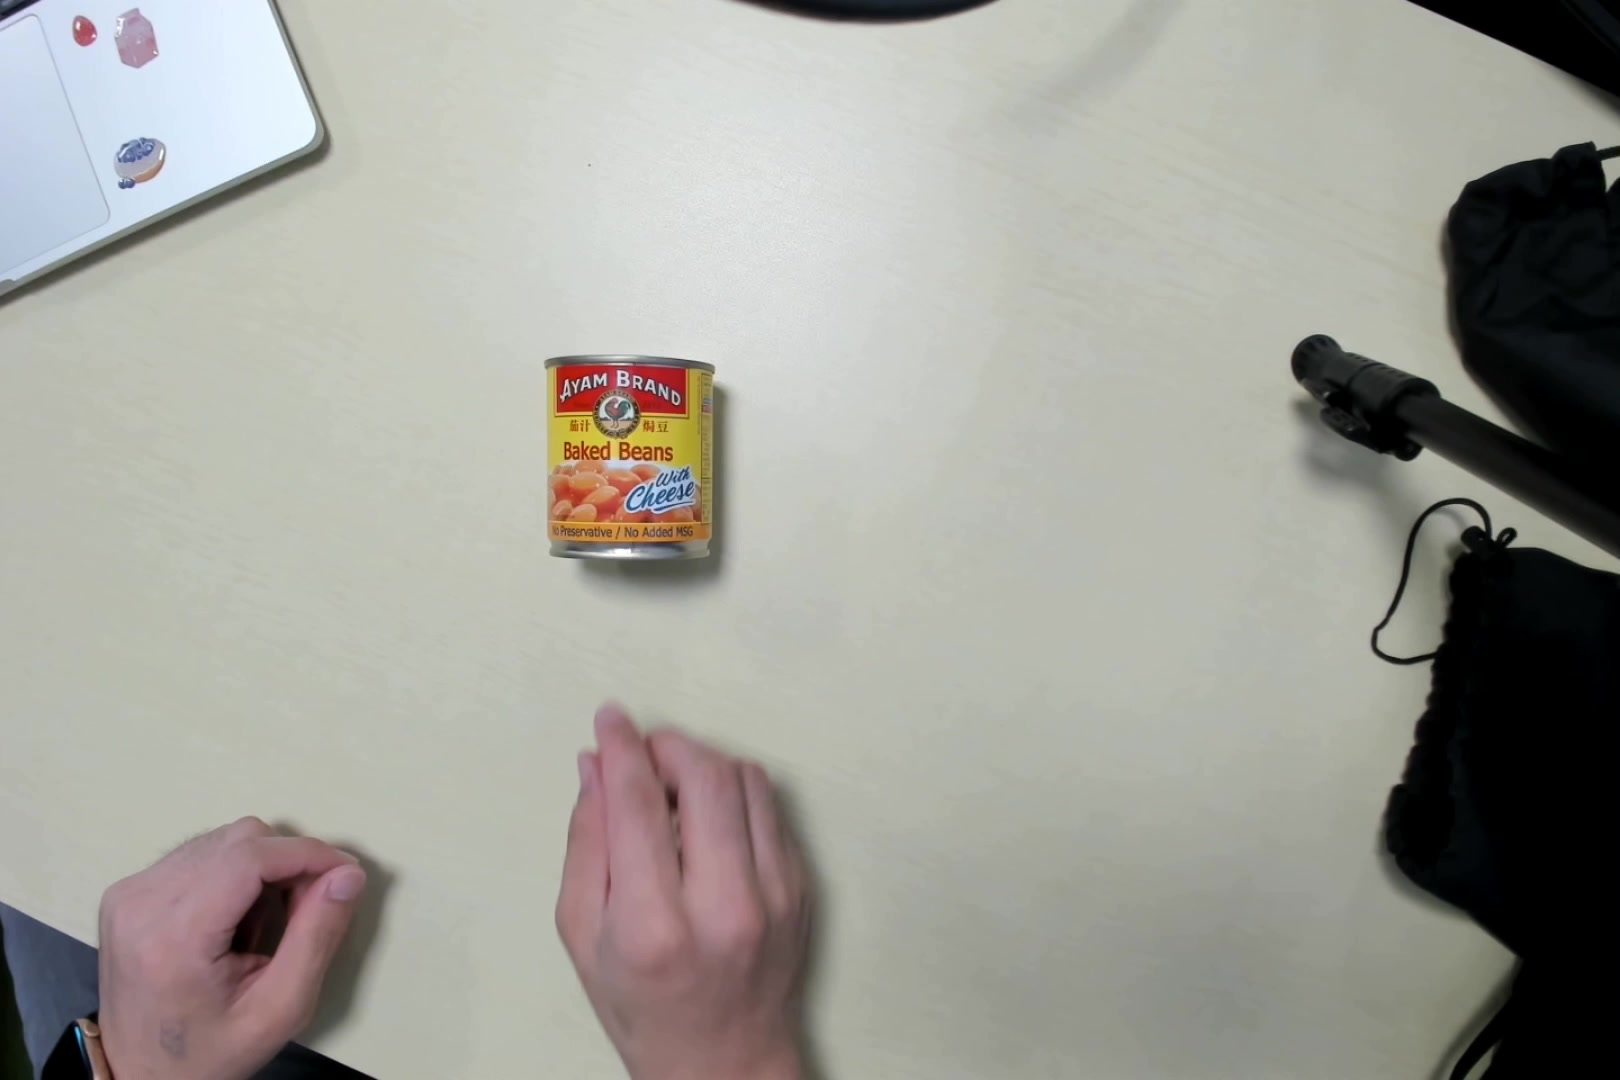CannedBakedBeans_200-299g_NonHalal_NonHealthy: (546, 350, 722, 570)
